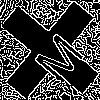M: (25, 25, 87, 86)
